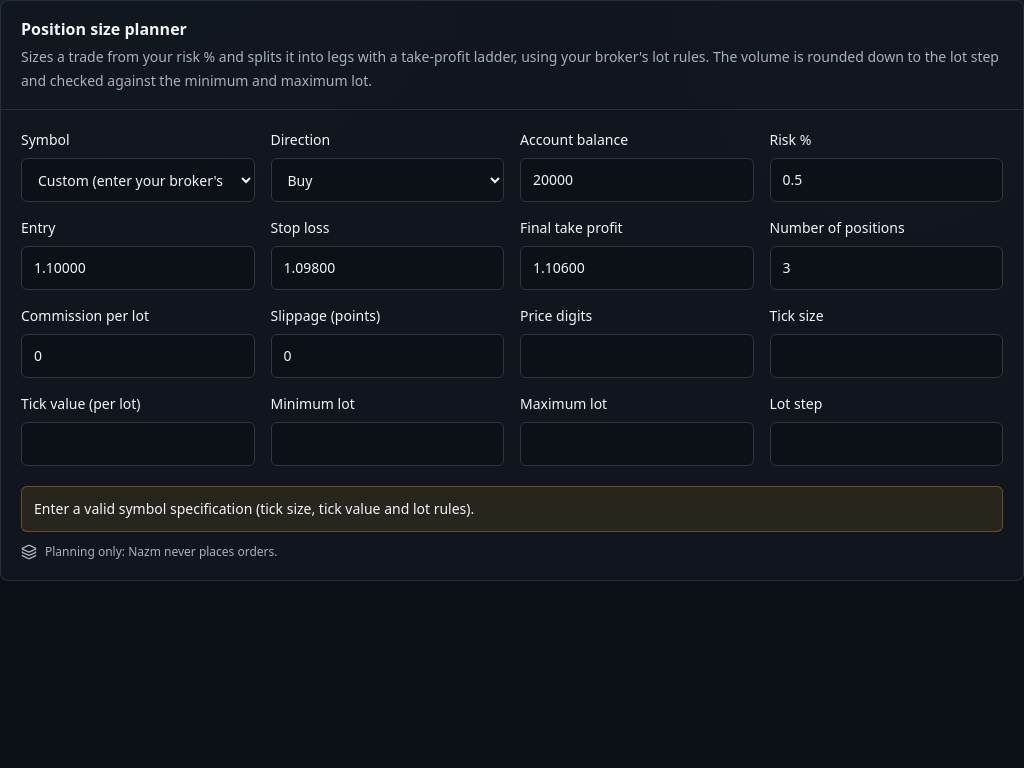
PositionPlanner opened from a plan › leaves the contract spec empty when the plan gives it as empty, and asks for it instead of sizing on an example
expect the field labelled "Tick size" is empty: met, box [770,334,1003,378]
expect the field labelled "Tick value (per lot)" is empty: met, box [21,422,254,466]
Type "5" into the field labelled "Price digits".
click(637, 356); type("5")  # box [520,334,754,378]
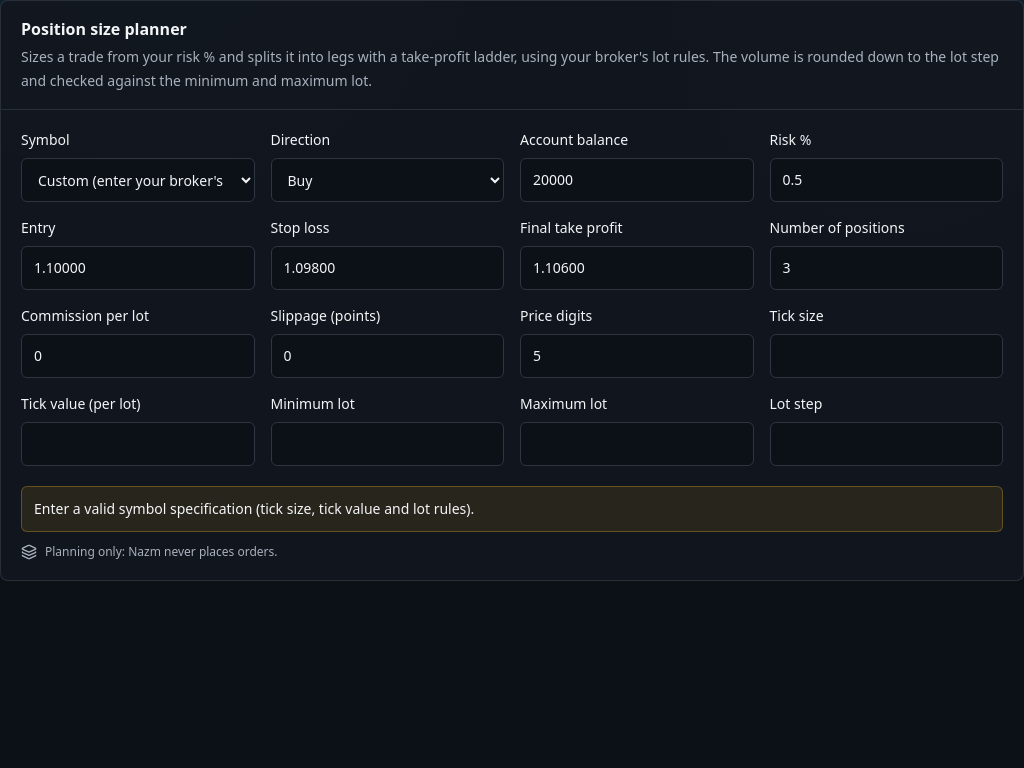
Type "0.00001" into the field labelled "Tick size".
click(886, 356); type("0.00001")  # box [770,334,1003,378]
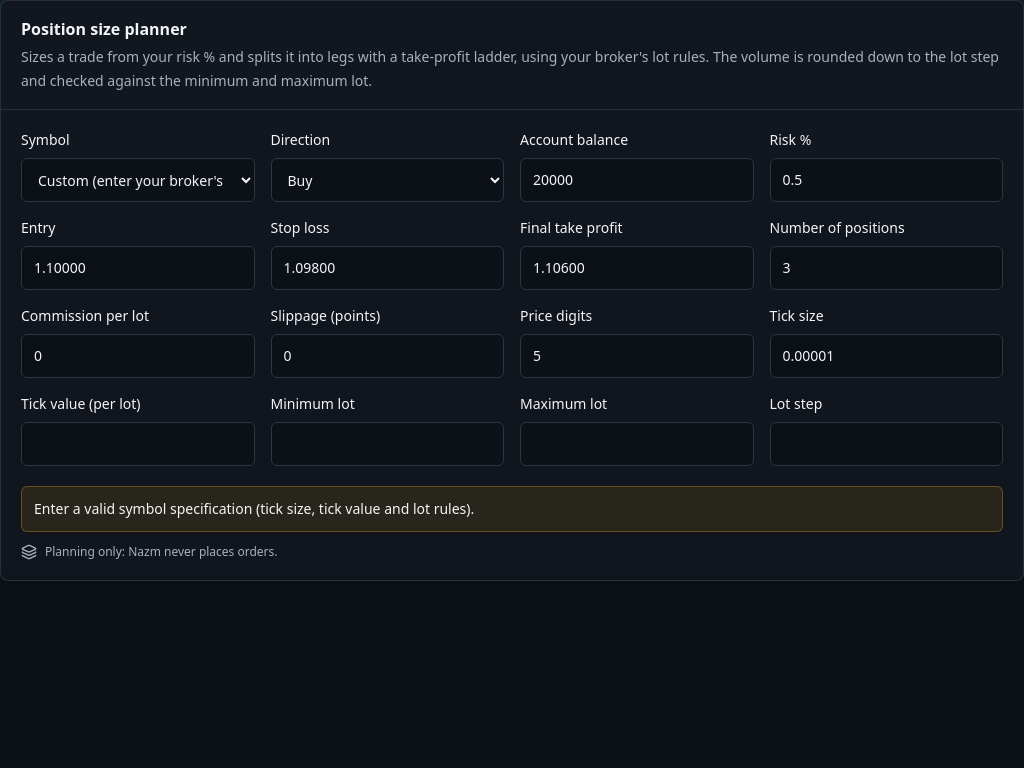
Type "1" into the field labelled "Tick value (per lot)".
click(138, 444); type("1")  # box [21,422,254,466]
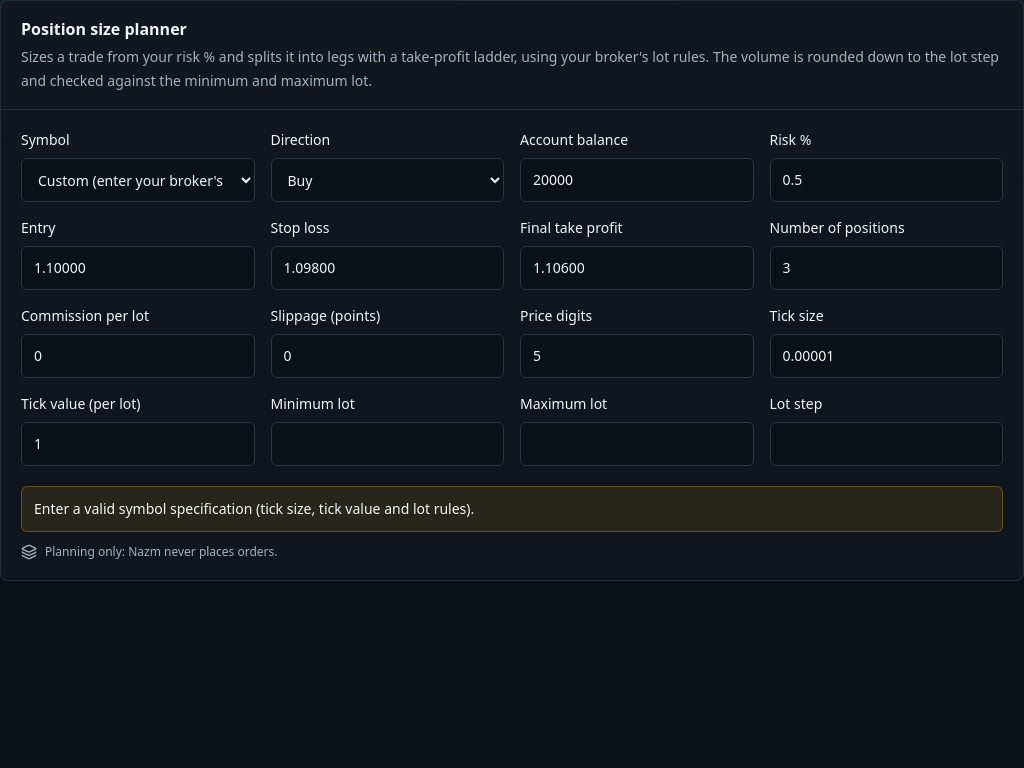
Type "0.01" into the field labelled "Minimum lot".
click(387, 444); type("0.01")  # box [270,422,504,466]
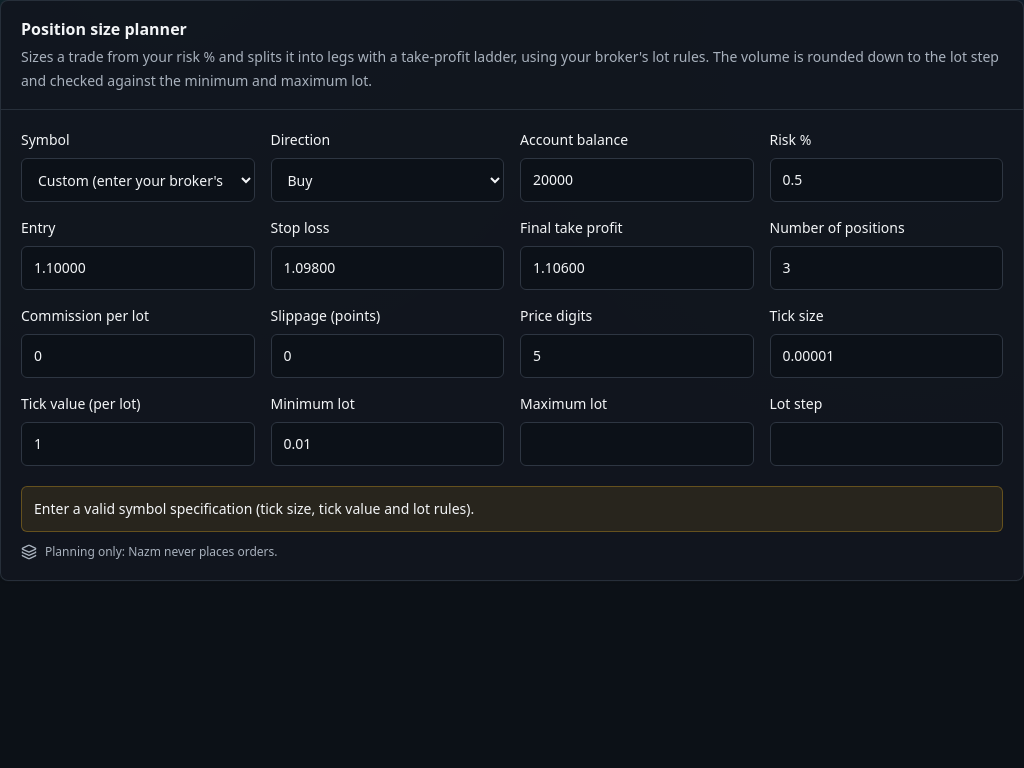
Type "100" into the field labelled "Maximum lot".
click(637, 444); type("100")  # box [520,422,754,466]
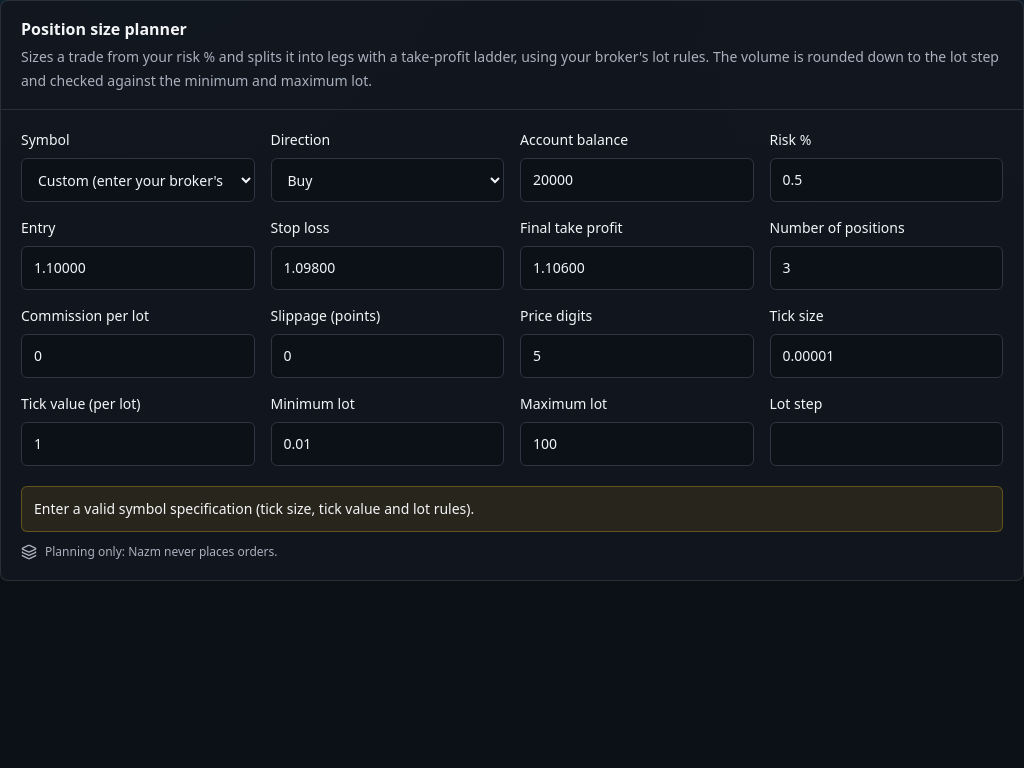
Type "0.01" into the field labelled "Lot step".
click(886, 444); type("0.01")  # box [770,422,1003,466]
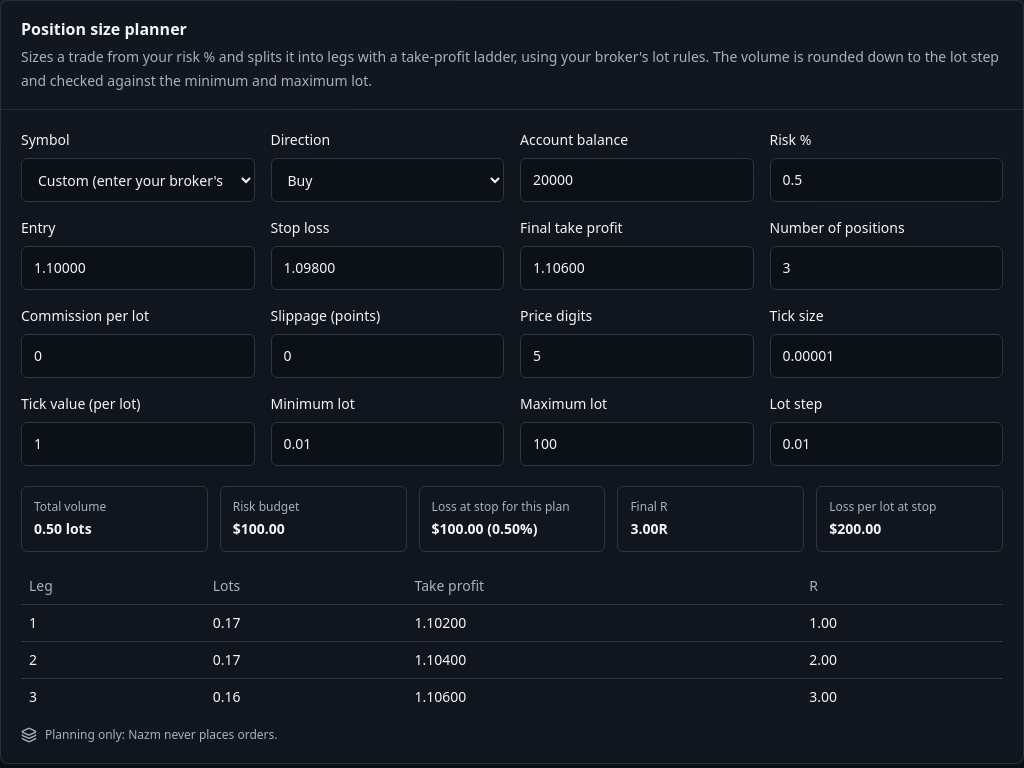
expect the text "0.50 lots" is shown: met, box [34,519,92,538]
